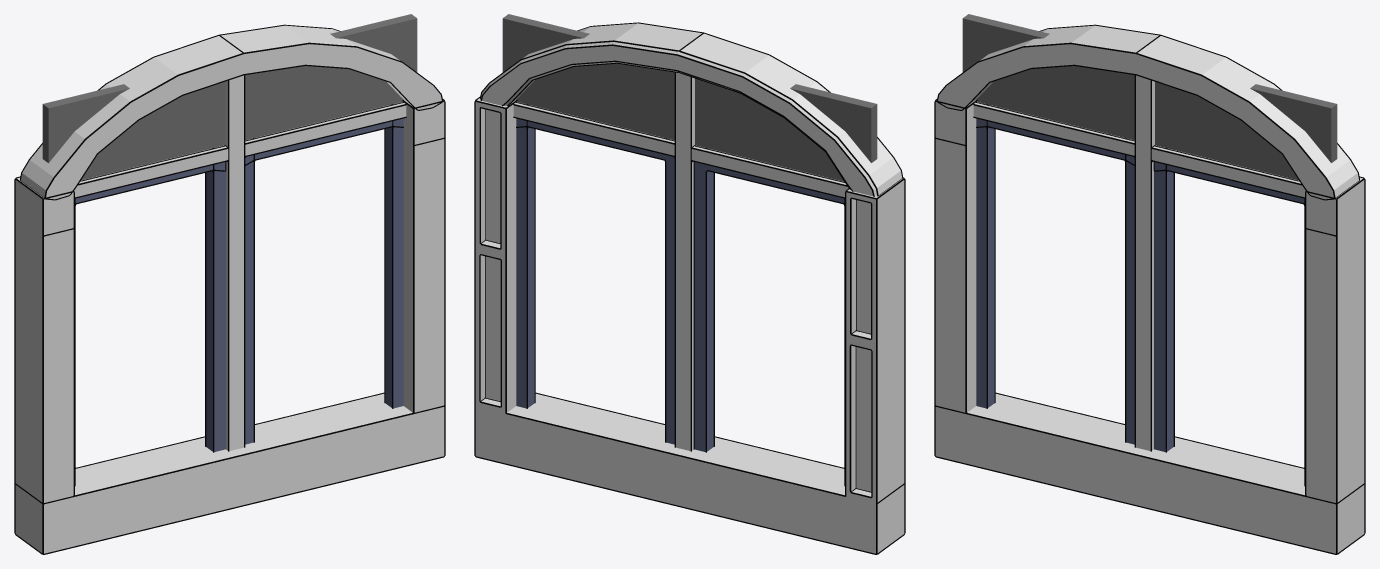
File: trainDoorFrame.fbx
3 views of the same model, side by side, from view 1: azimuth 30°, elevation 25°; view 2: azimuth 150°, elevation 25°; view 3: azimuth 330°, elevation 25° (orthographic).
Visible parts, largest first — view 1: big door frame, outline.032; view 2: big door frame, outline.032; view 3: big door frame, outline.032.
Part boxes in pixels (x1=…): big door frame: x1=15, y1=14, x2=444, y2=553; outline.032: x1=14, y1=24, x2=445, y2=554; big door frame: x1=475, y1=14, x2=904, y2=553; outline.032: x1=474, y1=22, x2=905, y2=554; big door frame: x1=935, y1=14, x2=1364, y2=553; outline.032: x1=934, y1=24, x2=1365, y2=554.
Bounding box in the file's own units: 1663 × 1788 × 204.
